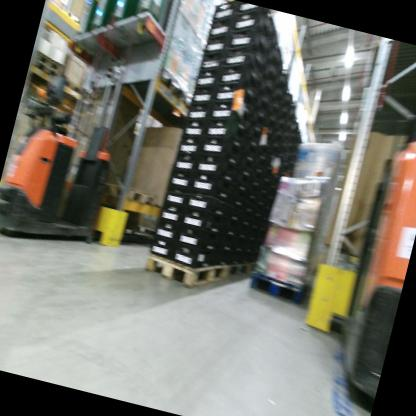pallet: (140, 245, 231, 297), (127, 61, 195, 123), (244, 264, 313, 312), (99, 174, 161, 214), (226, 256, 252, 287)
pallet_truck: (319, 46, 416, 416), (0, 78, 131, 263)
